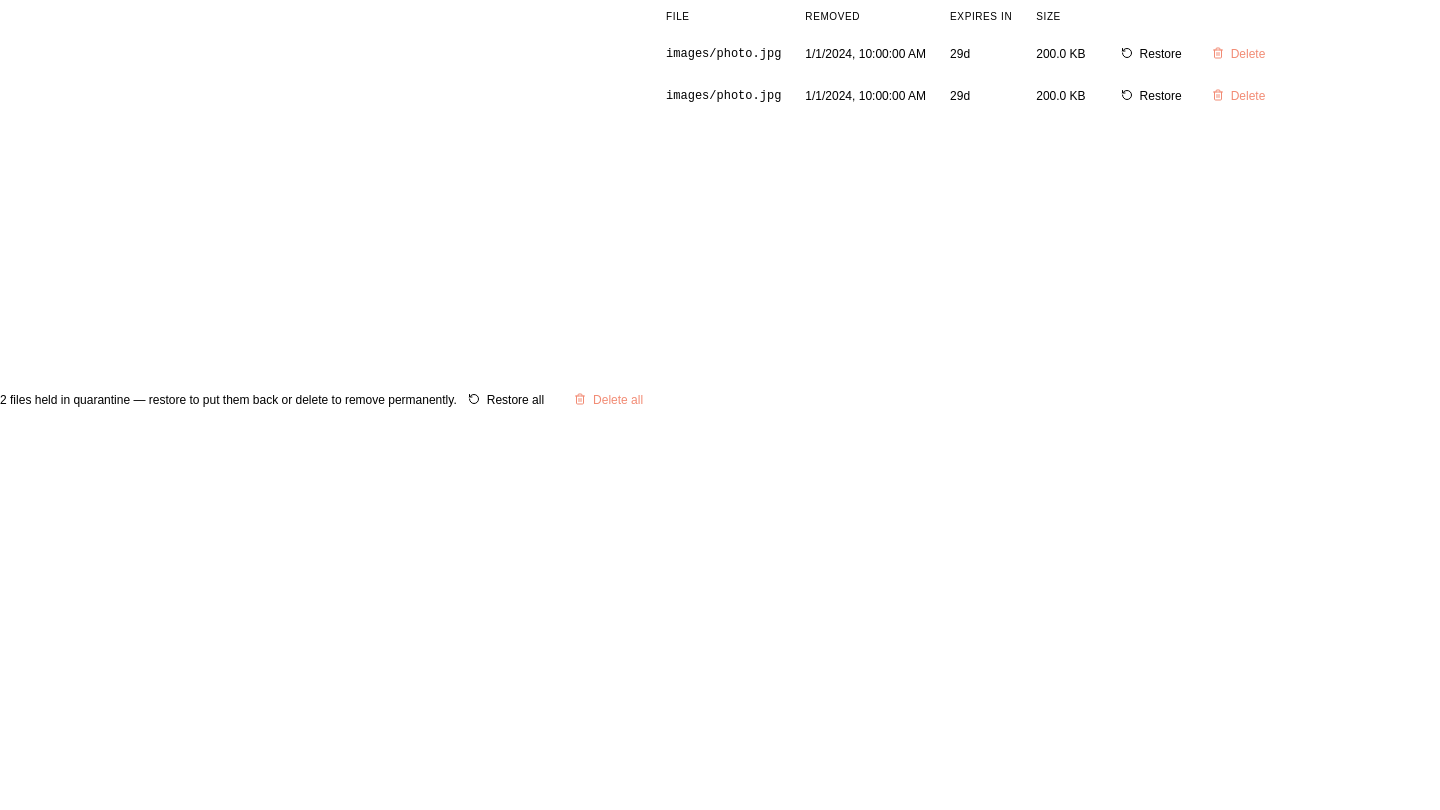
Scenario: QuarantineCard › delete all button opens the confirmation modal
Expected: the text "permanently remove all" is not shown
Click the button "Delete all".
click(609, 400)  # box [563,389,654,411]
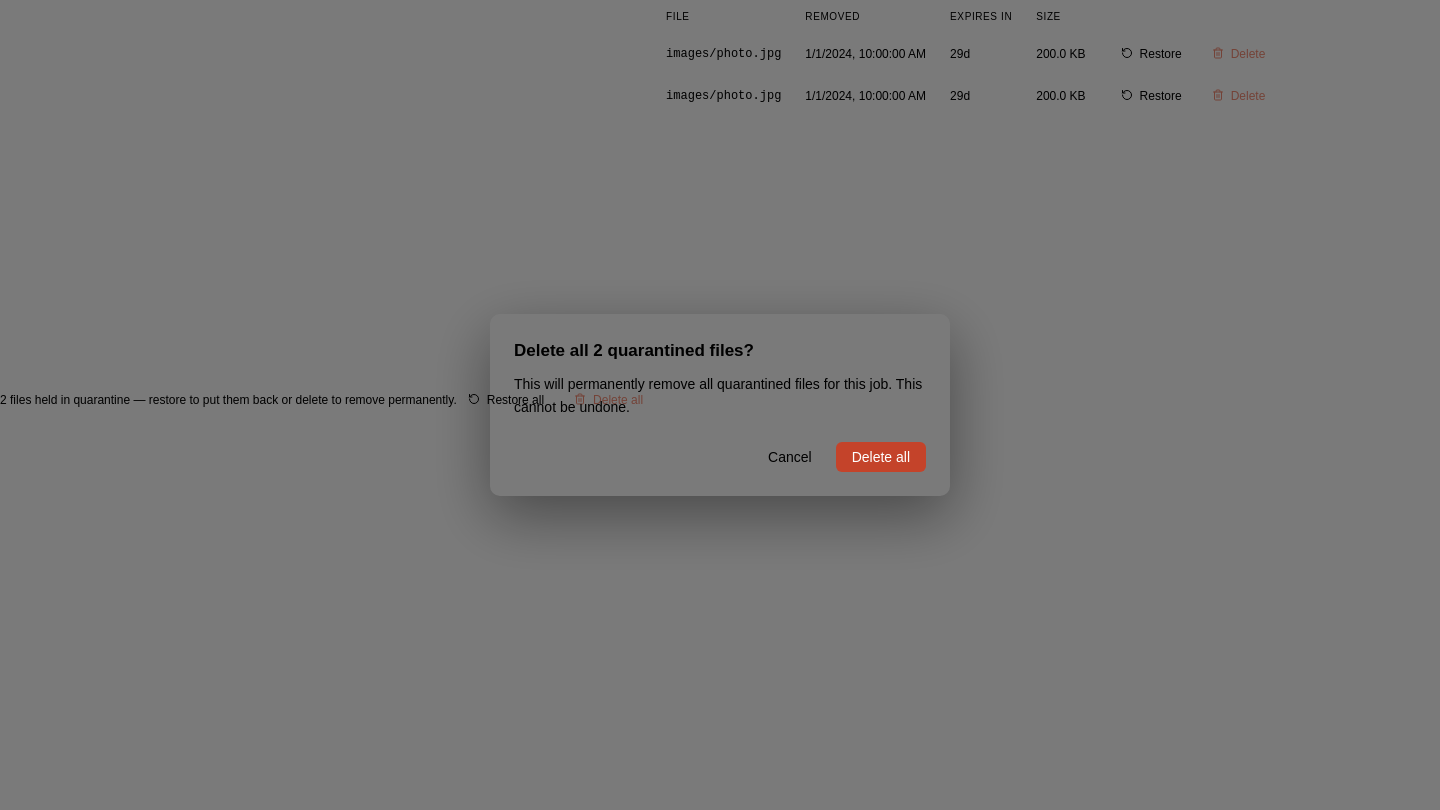
Result: the text "permanently remove all" is shown at [514,376,922,415]
